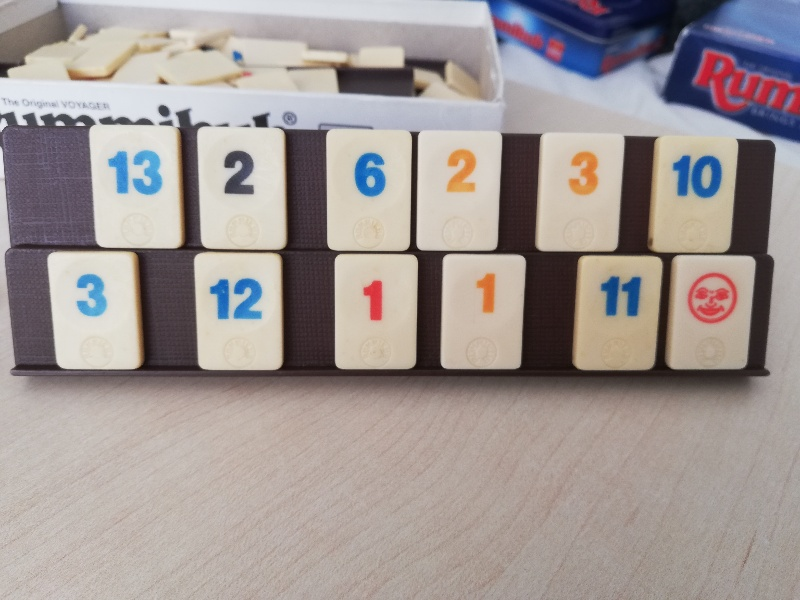1: (333, 253, 419, 371), (442, 252, 524, 368), (576, 255, 657, 370)
10: (660, 134, 734, 253)
12: (193, 252, 283, 371)
13: (90, 120, 188, 249)
2: (197, 126, 289, 249), (419, 128, 498, 251)
3: (46, 251, 145, 372), (540, 130, 617, 251)
6: (324, 127, 410, 251)
joker: (672, 256, 750, 371)
